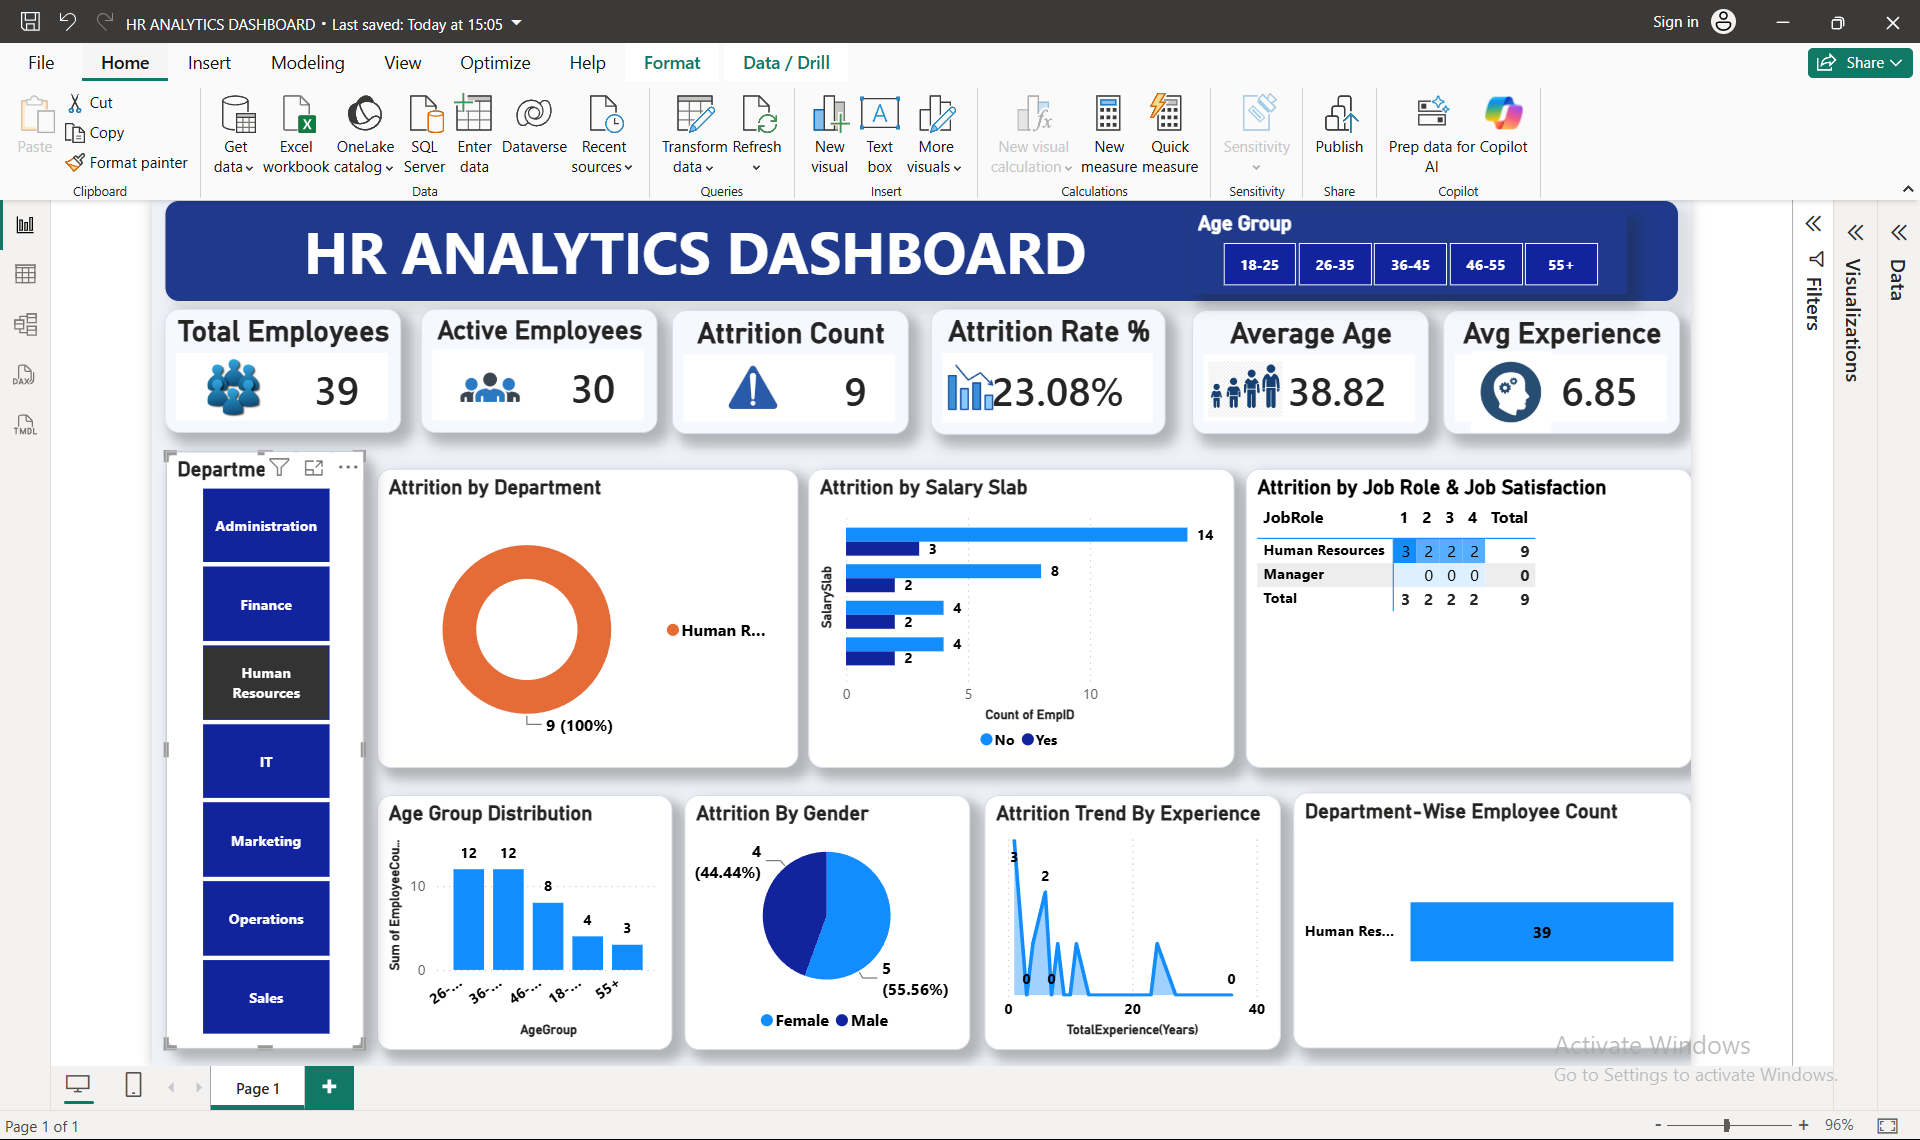

The dashboard page shown, as its layout file describes it:
{"tool":"powerbi","page":{"name":"Page 1","canvas":[1280,720],"ordinal":0},"visuals":[{"type":"textbox","box":[10,0,1259,85],"z":0},{"type":"cardVisual","title":"Total Employees","fields":{"Data":["CountNonNull(HR Analytics Project.EmpID)"]},"box":[10.5,90.7,196.5,103.5],"z":1000},{"type":"cardVisual","title":"Active Employees","fields":{"Data":["CountNonNull(HR Analytics Project.EmployeeNumber)"]},"box":[223.3,90.7,196.5,103.5],"z":2000},{"type":"cardVisual","title":"Average Age","fields":{"Data":["Avg(HR Analytics Project.Age)"]},"box":[865.1,91.9,196.5,103.5],"z":3000},{"type":"cardVisual","title":"Attrition Count","fields":{"Data":["Sum(HR Analytics Project.AttritionCount)"]},"box":[432.6,91.9,196.5,103.5],"z":4000},{"type":"cardVisual","title":"Avg Experience","fields":{"Data":["Avg(HR Analytics Project.YearsatCompany)"]},"box":[1073.3,91.9,196.5,103.5],"z":5000},{"type":"cardVisual","title":"Attrition Rate %","fields":{"Data":["HR Analytics Project.Attrition Rate %"]},"box":[647.7,90.7,195.3,104.7],"z":6000},{"type":"image","box":[21.8,129.9,54,49.9],"z":7000},{"type":"image","box":[232.8,118.5,59.2,74.8],"z":8000},{"type":"image","box":[473.3,125.6,53.5,60.5],"z":9000},{"type":"image","box":[660.5,132.6,39.5,45.3],"z":10000},{"type":"image","box":[877.9,119.8,61.6,75.6],"z":11000},{"type":"image","box":[1089.5,125.6,81.4,67.4],"z":12000},{"type":"donutChart","title":"Attrition by Department","fields":{"Category":["HR Analytics Project.Department"],"Y":["Sum(HR Analytics Project.AttritionCount)"]},"box":[187.2,223.3,350,248.8],"z":13000},{"type":"clusteredBarChart","title":"Attrition by Salary Slab","fields":{"Category":["HR Analytics Project.SalarySlab"],"Y":["CountNonNull(HR Analytics Project.EmpID)"],"Series":["HR Analytics Project.Attrition"]},"box":[545.4,223.3,354.7,248.8],"z":14000},{"type":"pivotTable","title":"Attrition by Job Role & Job Satisfaction","fields":{"Rows":["HR Analytics Project.JobRole"],"Values":["Sum(HR Analytics Project.AttritionCount)"],"Columns":["HR Analytics Project.JobSatisfaction"]},"box":[909.3,223.3,370.9,248.8],"z":15000},{"type":"columnChart","title":"Age Group Distribution","fields":{"Category":["HR Analytics Project.AgeGroup"],"Y":["Sum(HR Analytics Project.EmployeeCount)"]},"box":[187.2,494.2,245.3,211.6],"z":16000},{"type":"pieChart","title":"Attrition By Gender","fields":{"Category":["HR Analytics Project.Gender"],"Y":["Sum(HR Analytics Project.AttritionCount)"]},"box":[443,494.2,237.2,211.6],"z":17000},{"type":"areaChart","title":"Attrition Trend By Experience","fields":{"Category":["HR Analytics Project.TotalExperience(Years)"],"Y2":["Sum(HR Analytics Project.AttritionCount)"]},"box":[691.9,494.2,246.5,211.6],"z":18000},{"type":"funnel","title":"Department-Wise Employee Count","fields":{"Category":["HR Analytics Project.Department"],"Y":["CountNonNull(HR Analytics Project.EmpID)"]},"box":[948.8,492.6,331.5,213],"z":19000},{"type":"slicer","title":"Department","fields":{"Values":["HR Analytics Project.Department"]},"box":[11.6,209.3,165.1,496.5],"z":20000},{"type":"slicer","title":"Age Group","fields":{"Values":["HR Analytics Project.AgeGroup"]},"box":[865.1,9.3,361.6,68.6],"z":21000}]}

Visuals, with their boxes on the page's 1280x720 design canvas (x1, y1, x2, y2). These are canvas units, not pixel positions in the 1920x1140 screenshot, which may show the page scaled, cropped or inside an application window:
textbox: <box>10,0,1269,85</box>
"Total Employees" cardVisual: <box>10,91,207,194</box>
"Active Employees" cardVisual: <box>223,91,420,194</box>
"Average Age" cardVisual: <box>865,92,1062,195</box>
"Attrition Count" cardVisual: <box>433,92,629,195</box>
"Avg Experience" cardVisual: <box>1073,92,1270,195</box>
"Attrition Rate %" cardVisual: <box>648,91,843,195</box>
image: <box>22,130,76,180</box>
image: <box>233,118,292,193</box>
image: <box>473,126,527,186</box>
image: <box>660,133,700,178</box>
image: <box>878,120,940,195</box>
image: <box>1090,126,1171,193</box>
"Attrition by Department" donutChart: <box>187,223,537,472</box>
"Attrition by Salary Slab" clusteredBarChart: <box>545,223,900,472</box>
"Attrition by Job Role & Job Satisfaction" pivotTable: <box>909,223,1280,472</box>
"Age Group Distribution" columnChart: <box>187,494,432,706</box>
"Attrition By Gender" pieChart: <box>443,494,680,706</box>
"Attrition Trend By Experience" areaChart: <box>692,494,938,706</box>
"Department-Wise Employee Count" funnel: <box>949,493,1280,706</box>
"Department" slicer: <box>12,209,177,706</box>
"Age Group" slicer: <box>865,9,1227,78</box>
